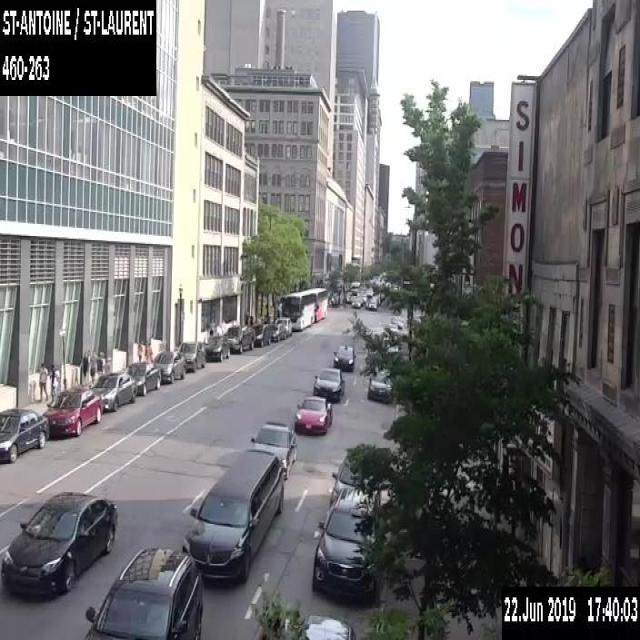bus: (279, 290, 314, 329), (302, 286, 326, 321)
pedestrian: (38, 362, 48, 399), (49, 362, 58, 401), (81, 350, 88, 384), (89, 350, 95, 385), (144, 341, 152, 360), (96, 352, 102, 375), (137, 340, 143, 361), (103, 356, 110, 372), (220, 319, 226, 334), (216, 322, 221, 336)
vehicle: (181, 448, 283, 582), (0, 490, 117, 600), (83, 546, 203, 639), (312, 487, 382, 598), (41, 387, 102, 435), (328, 452, 382, 506), (250, 421, 297, 478), (0, 408, 48, 461), (91, 372, 137, 411), (294, 394, 331, 434), (305, 612, 358, 639), (127, 361, 160, 395), (312, 366, 344, 401), (153, 351, 185, 382), (367, 366, 392, 402), (224, 324, 254, 352), (178, 340, 205, 371), (204, 336, 229, 361), (333, 343, 355, 370), (252, 323, 270, 346), (275, 316, 292, 336), (270, 322, 286, 340), (365, 296, 375, 308), (351, 297, 360, 307), (354, 295, 362, 304), (346, 294, 354, 302)
